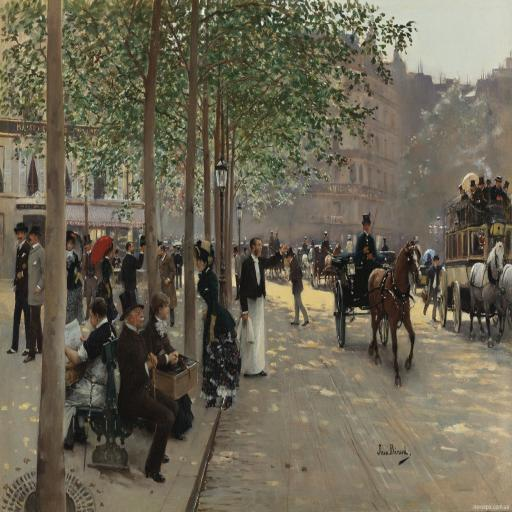horse: (366, 238, 424, 389), (468, 238, 506, 350), (324, 239, 344, 292), (498, 262, 512, 336), (269, 242, 289, 280), (302, 246, 312, 282)
